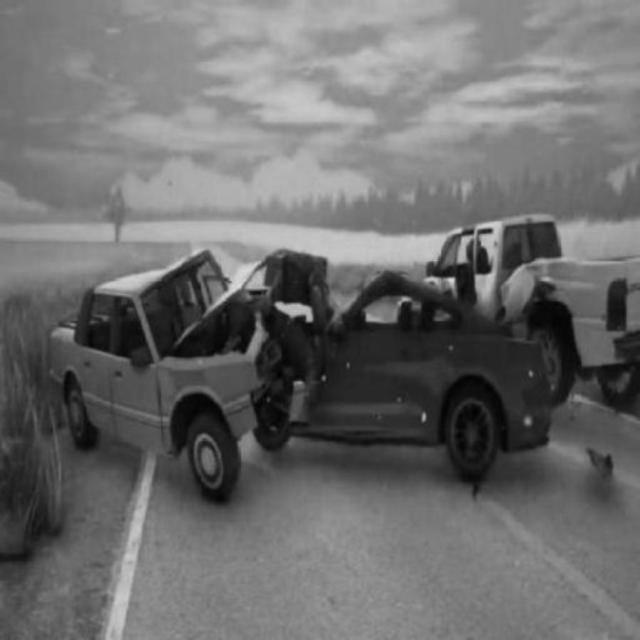accident: (62, 249, 552, 475)
